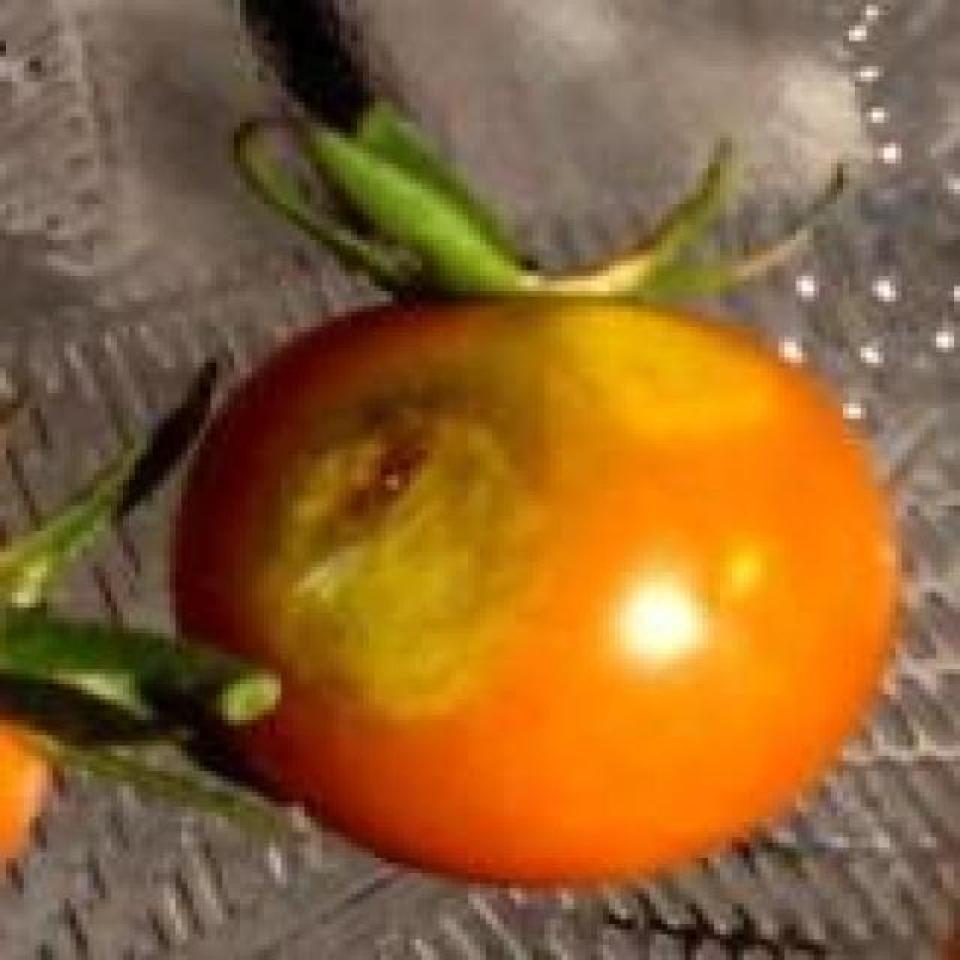Sunscald: (249, 342, 547, 724), (536, 298, 770, 452)
